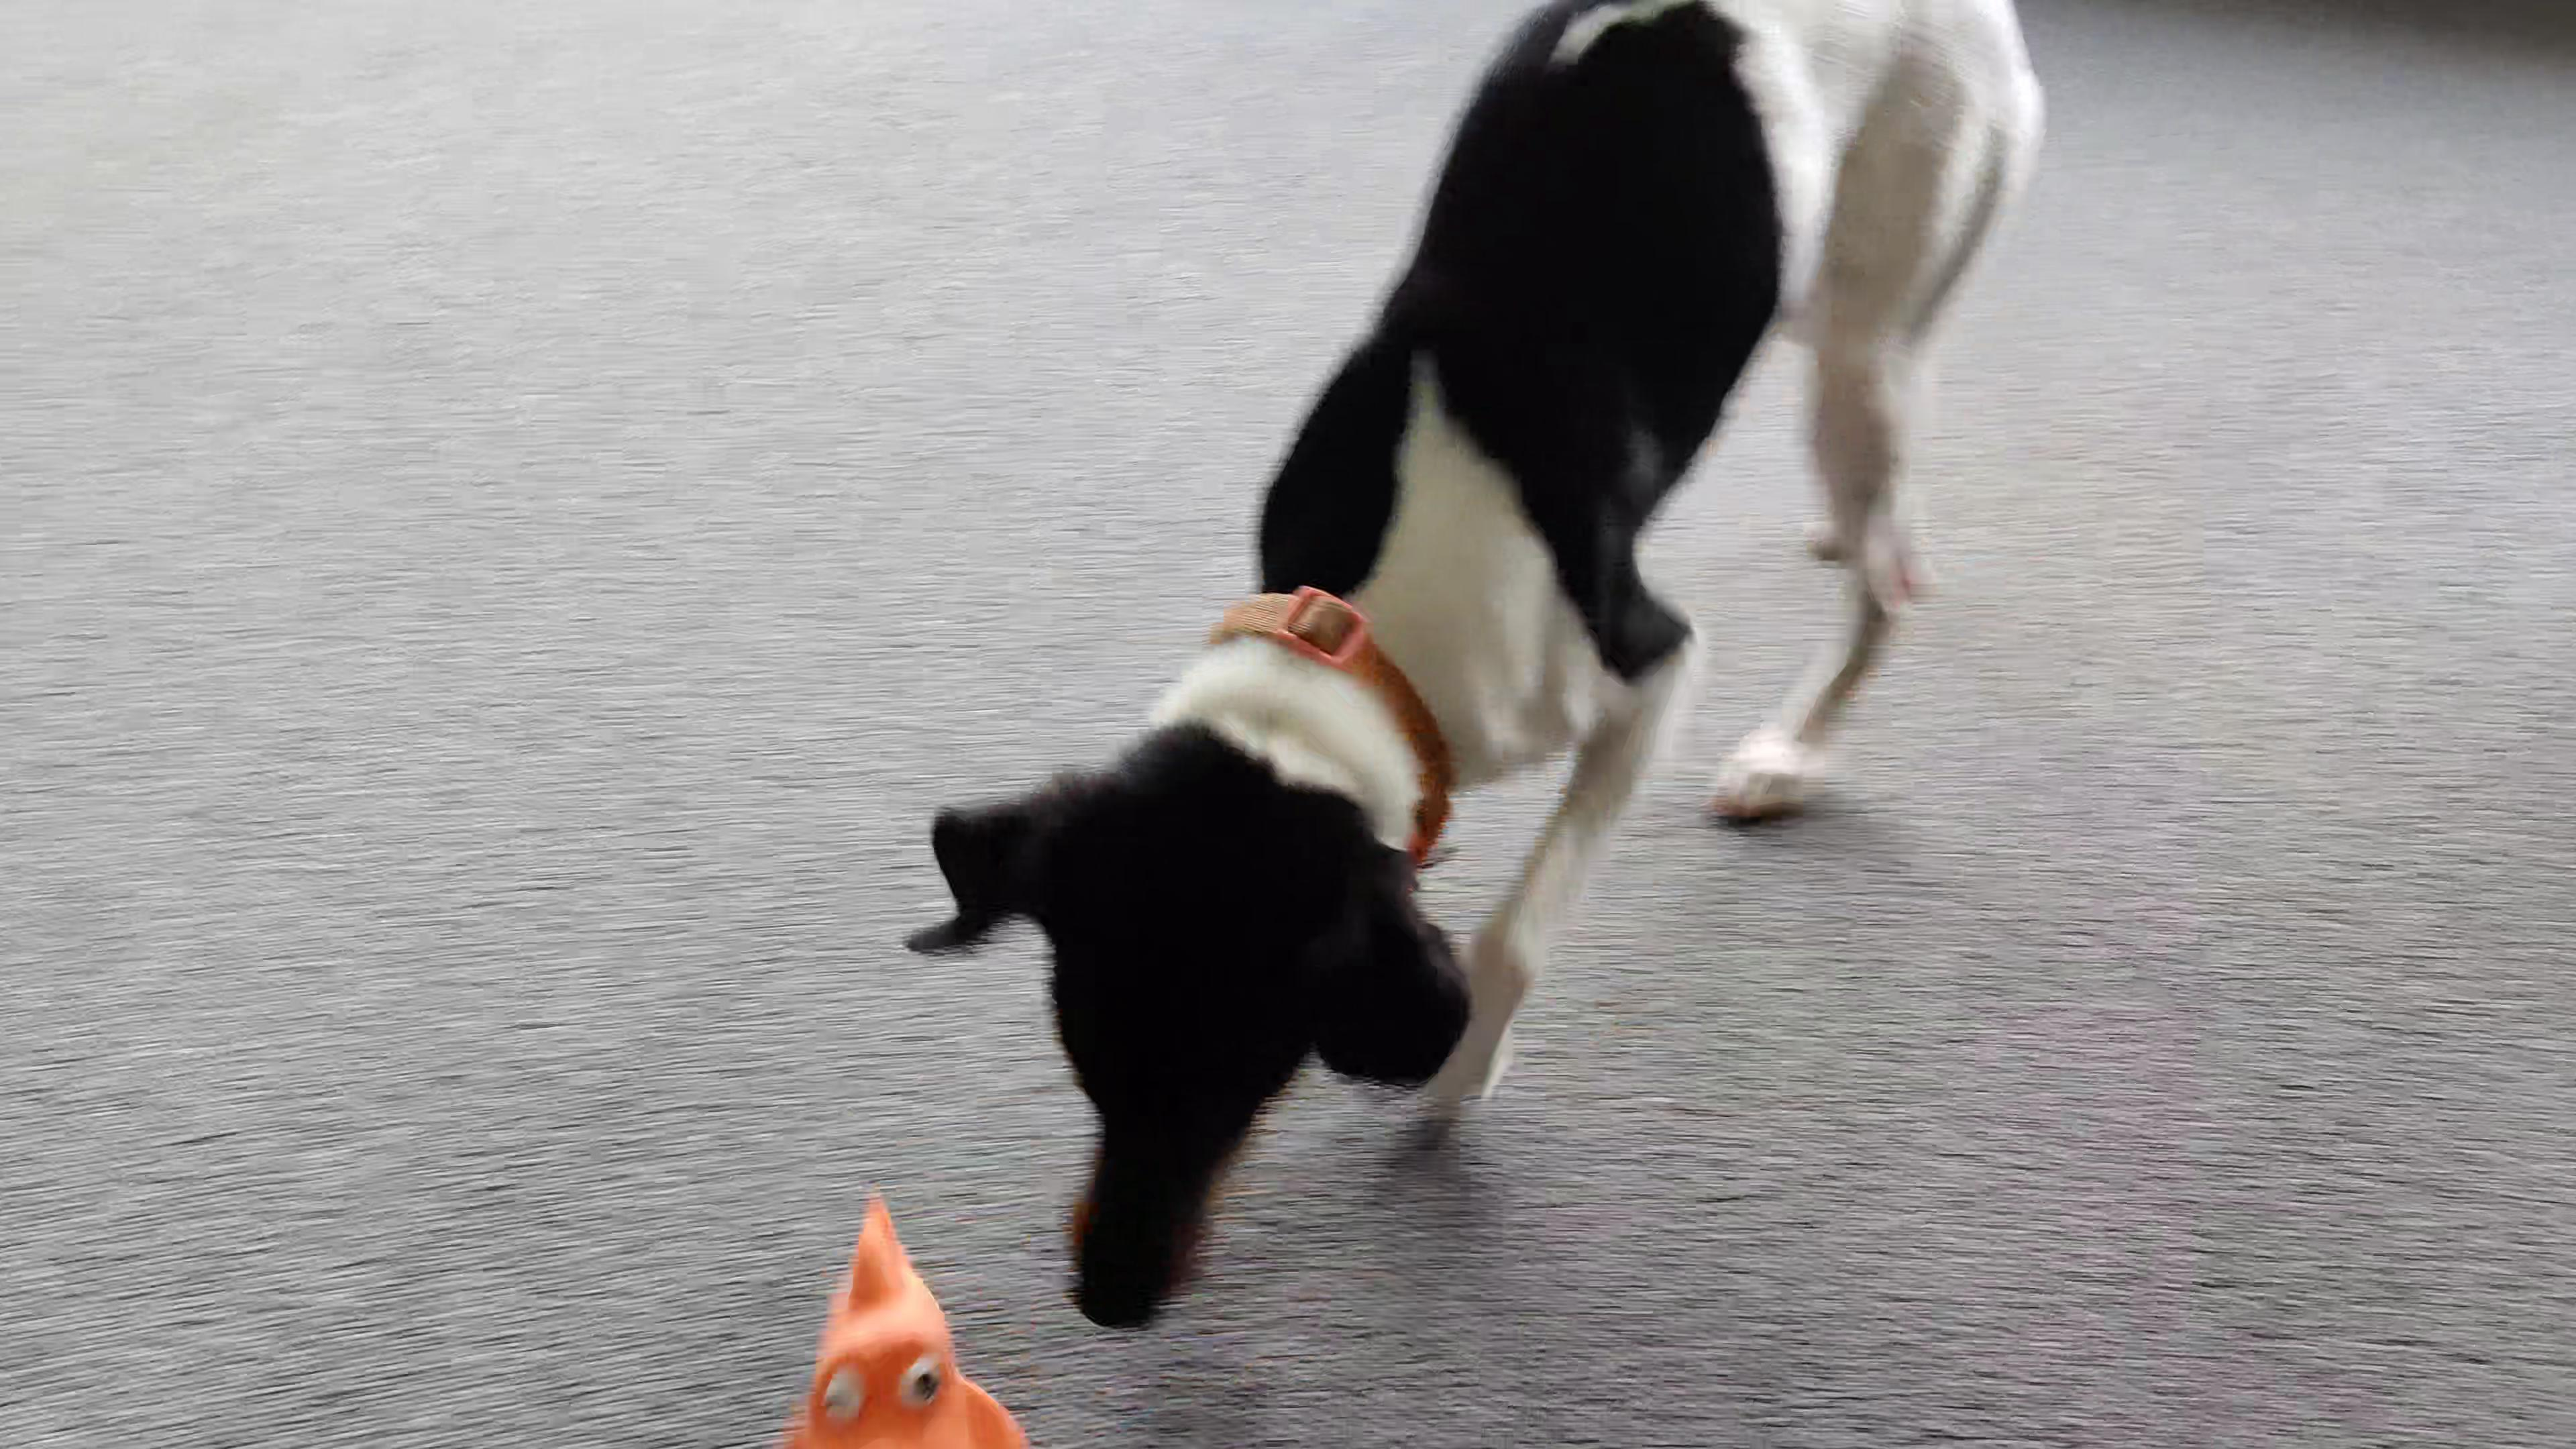Dog: (897, 0, 2061, 1345)
